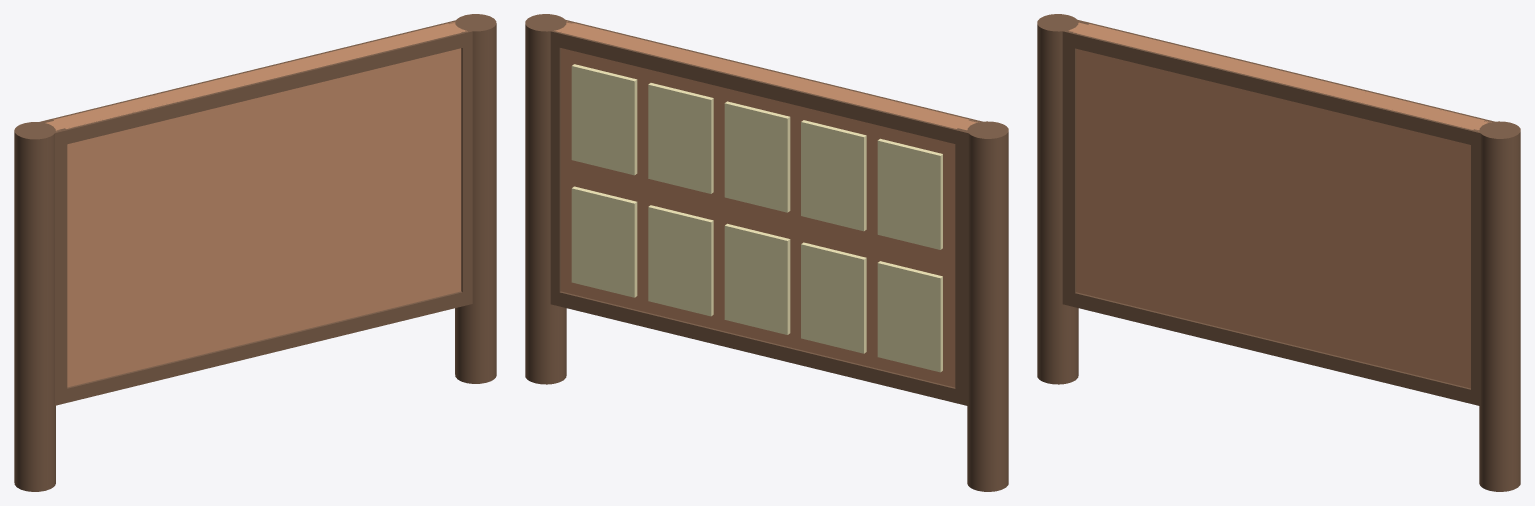
The model's file is board.gltf.
The picture shows the model from 3 angles, left to right: view 1: azimuth 30°, elevation 25°; view 2: azimuth 150°, elevation 25°; view 3: azimuth 330°, elevation 25°; orthographic projection.
Parts seen in each view (by area): view 1: Part (×8); view 2: Part (×18); view 3: Part (×8).
Part boxes in pixels (x1,y1,x2,y2): Part (×8): [14, 14, 496, 491]; Part (×18): [525, 14, 1008, 491]; Part (×8): [1037, 14, 1520, 491].
Size of the model in its own units: 10.62 by 7.5 by 0.8169.
